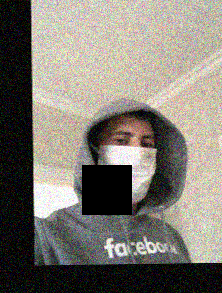with_mask: (98, 124, 158, 206)
